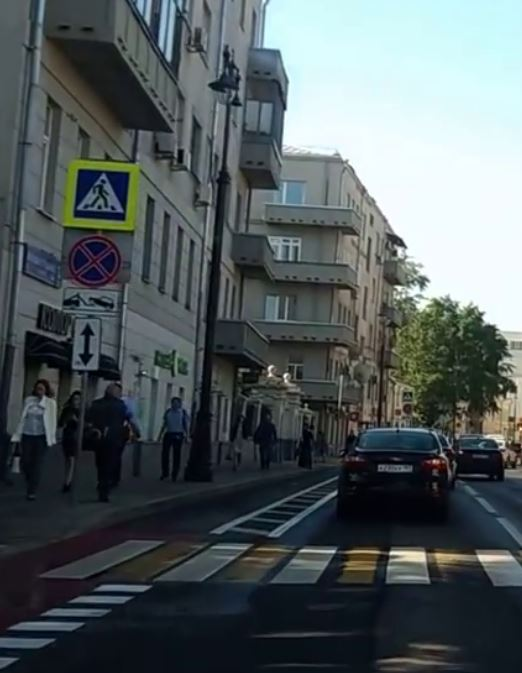Yaya Gecidi: (74, 164, 133, 222)
